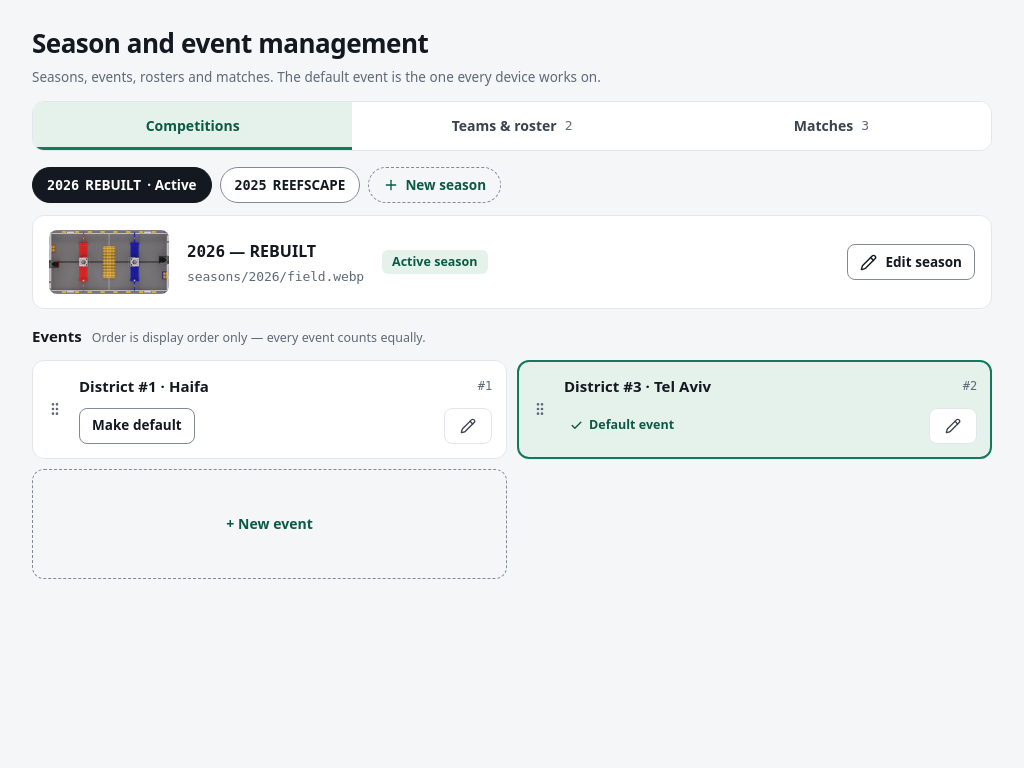
Test: ManagePage › names the event being worked on, and the picker changes it
Click the tab "Teams & roster 2" at (512, 126), box [352,102,672,150]
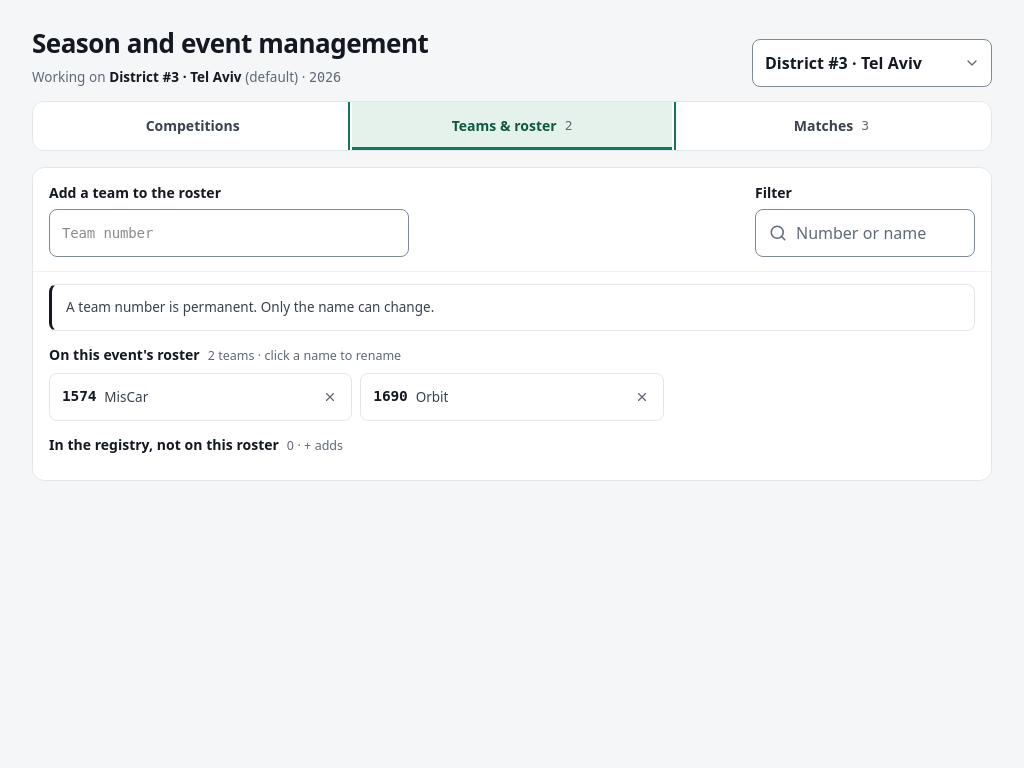
Result: the text "Working on District #3 · Tel Aviv (default) · 2026" is shown at [32,68,341,86]
Select "District #1 · Haifa" in the dropdown named "Event" at (872, 63), box [752,39,992,87]
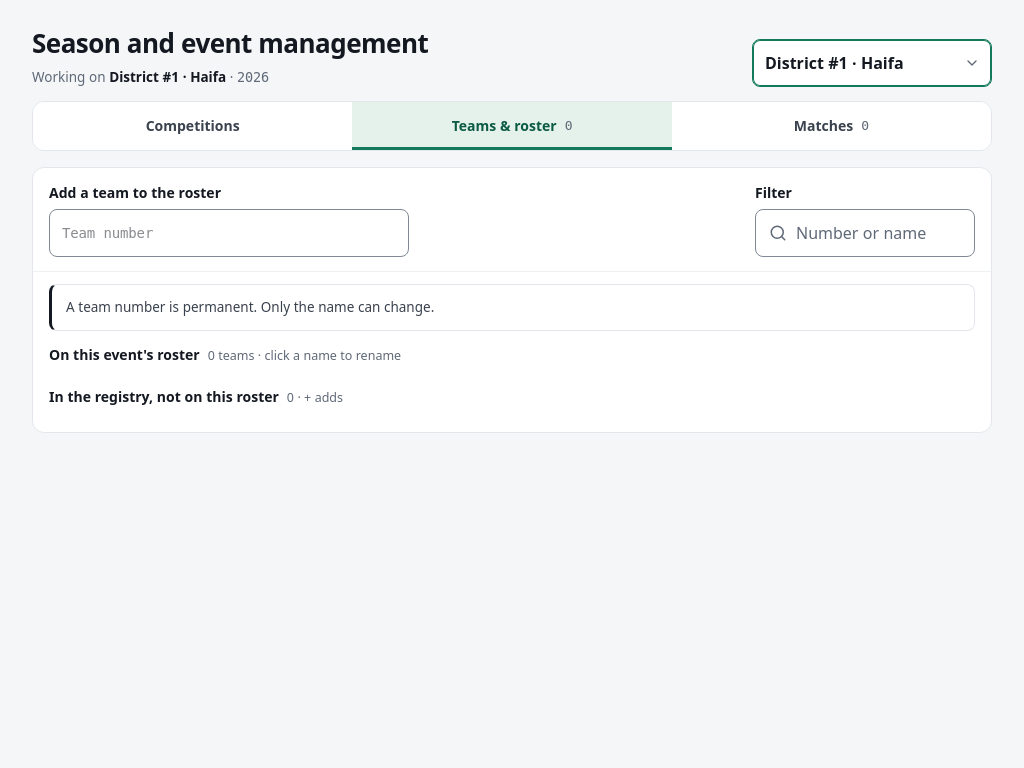
Result: the text "Working on District #1 · Haifa · 2026" is shown at [32,68,269,86]
Result: the tab "Teams & roster 0" is shown at [352,102,672,150]
